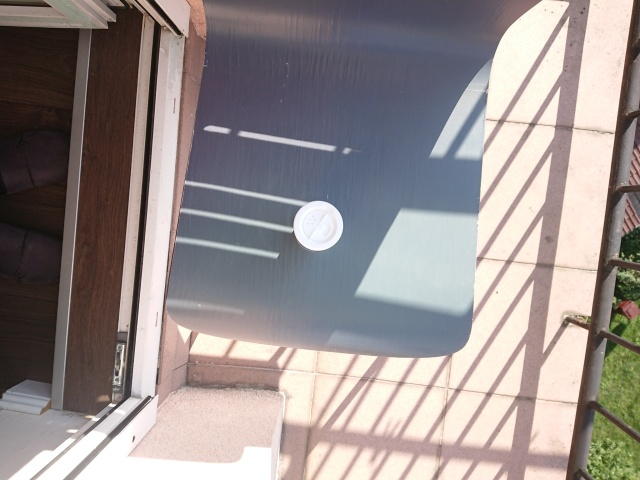Solana Pag Fine Sea Salt 250g: (291, 198, 346, 254)
